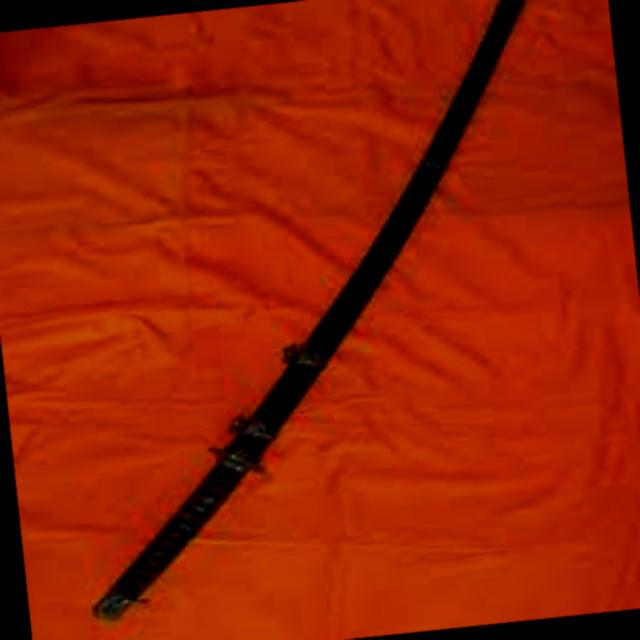long sword: (22, 0, 592, 624)
